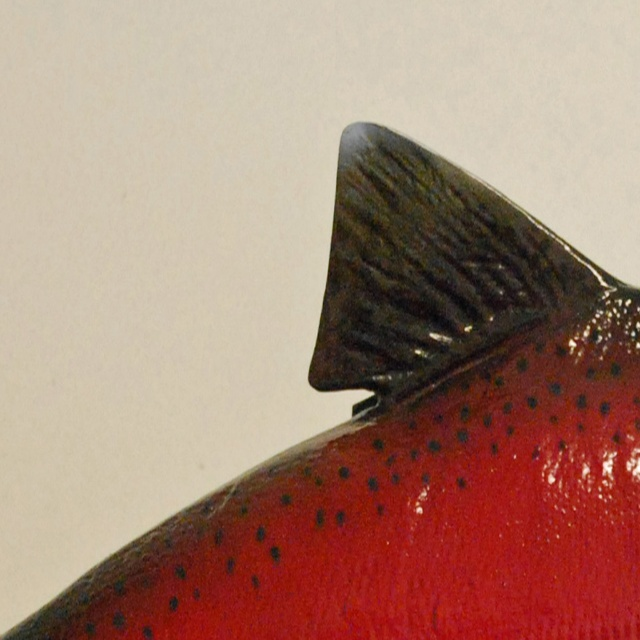Fish: (45, 331, 596, 640)
